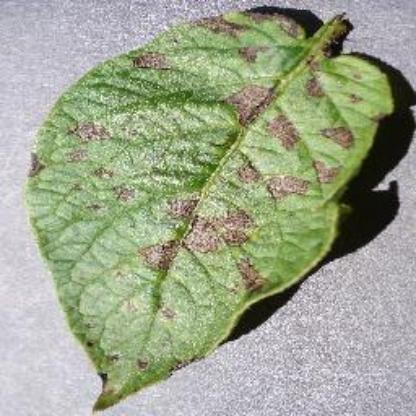Early-Blight: (23, 1, 415, 411)
